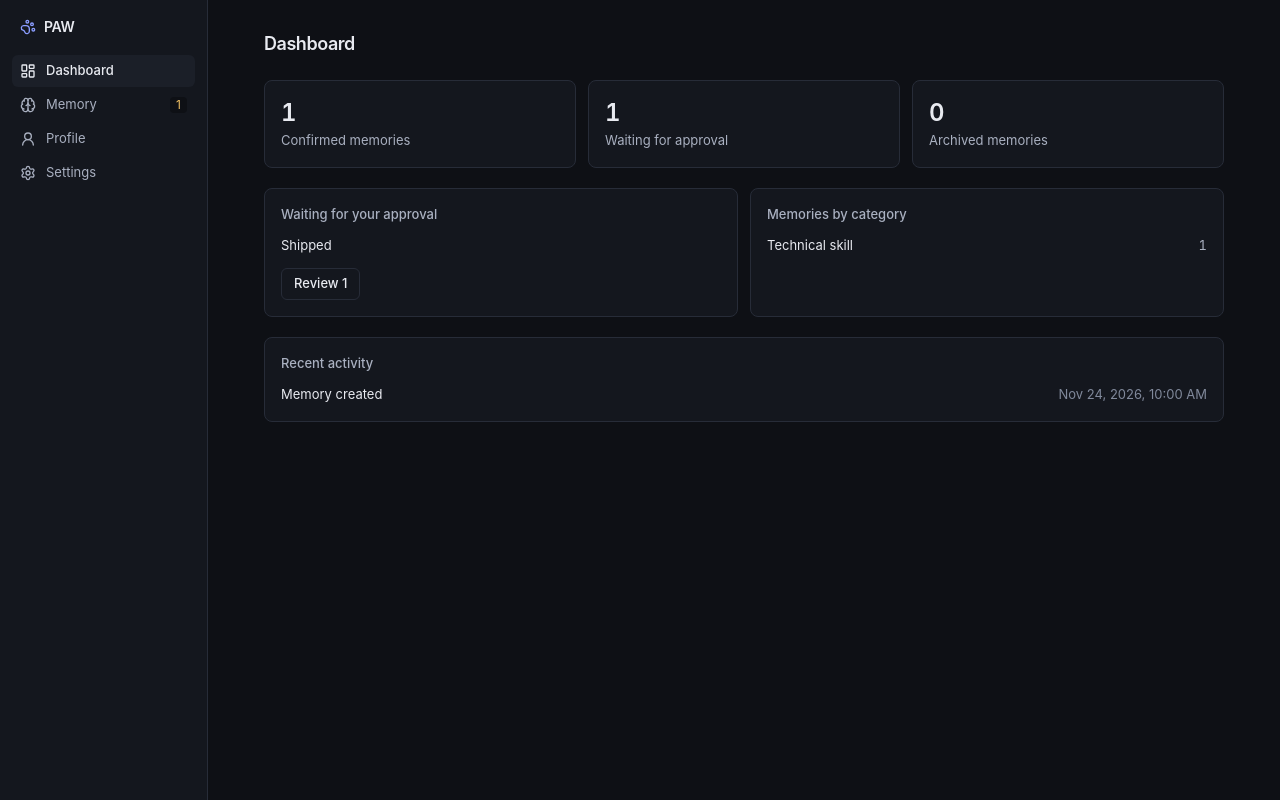
Test: memory › loads more
The width and height of the screenshot is (1280, 800).
Click the button "Memory 1". click: (104, 105)
box: x1=12 y1=89 x2=195 y2=121
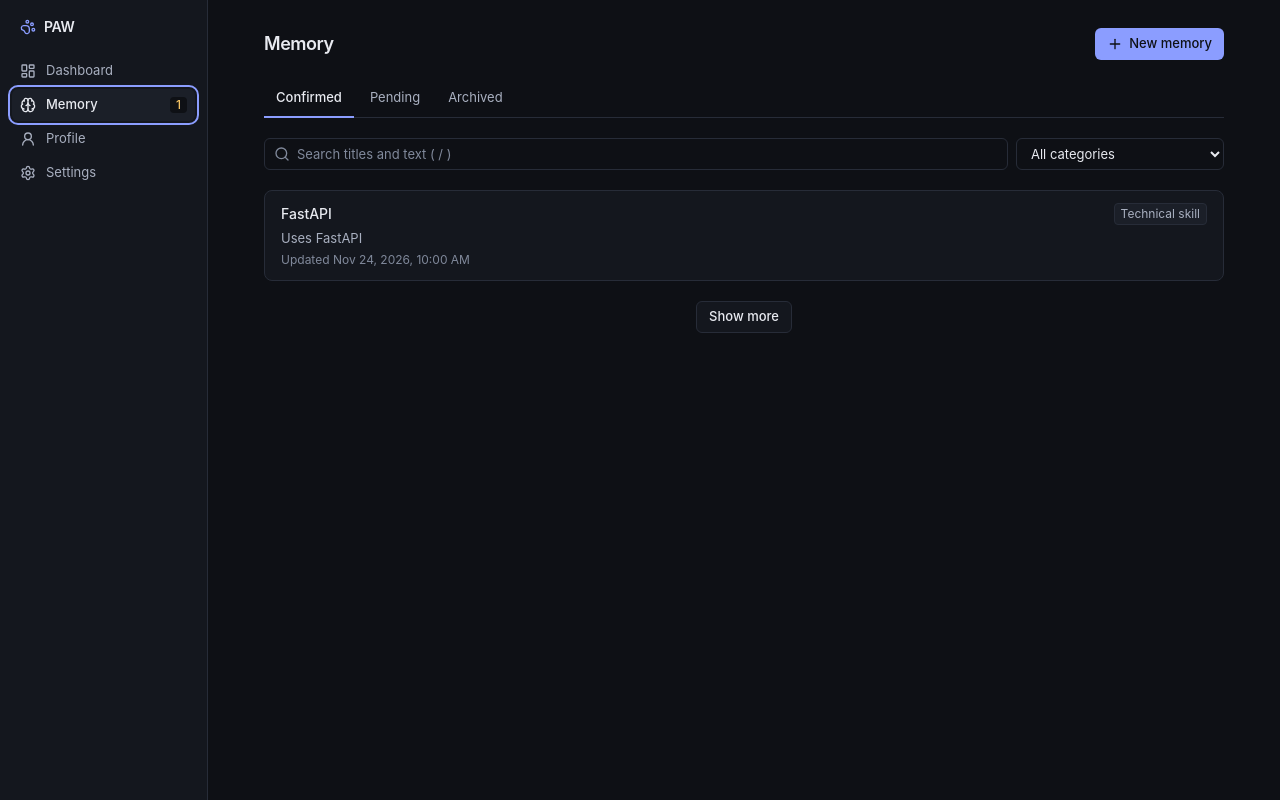
Click the button "Show more". click: (744, 317)
box: x1=696 y1=301 x2=792 y2=333
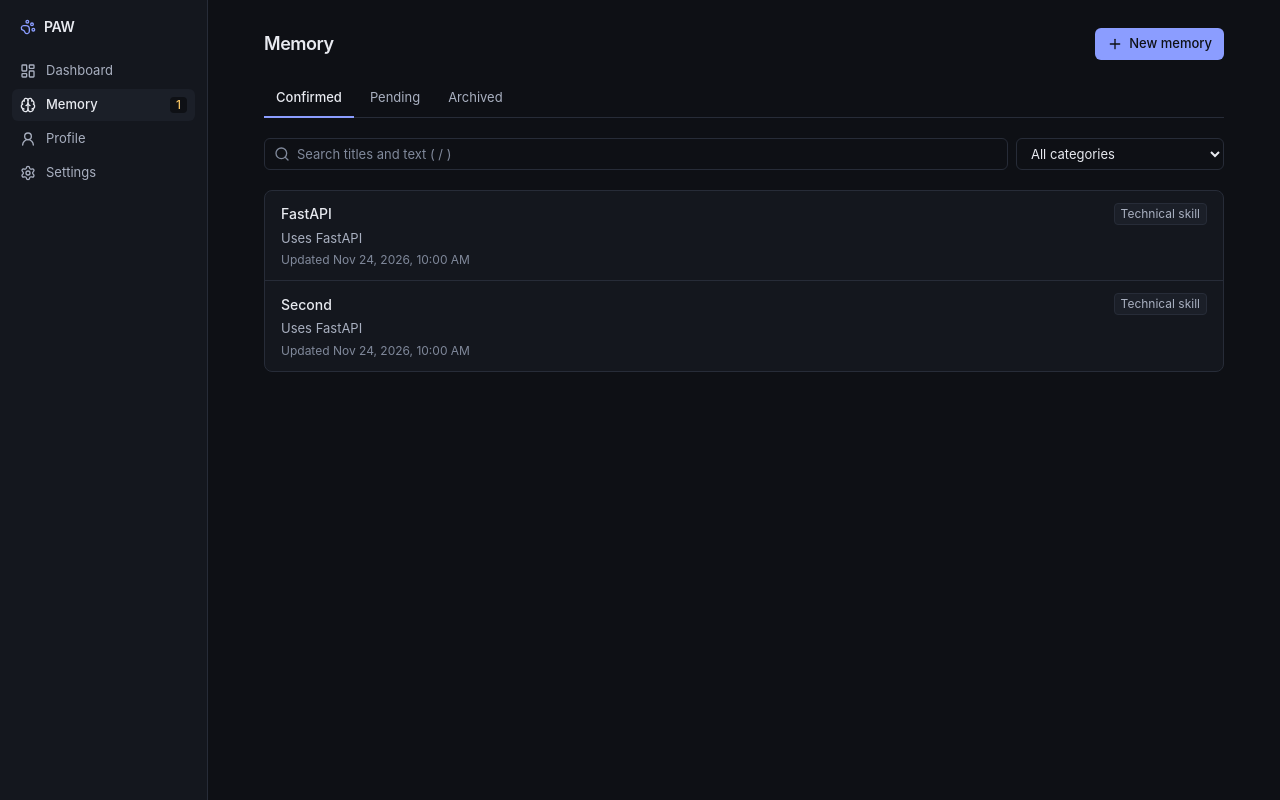
Expected: the text "FastAPI" is shown, x1=281 y1=205 x2=332 y2=222
Expected: the text "Second" is shown, x1=281 y1=296 x2=332 y2=312
